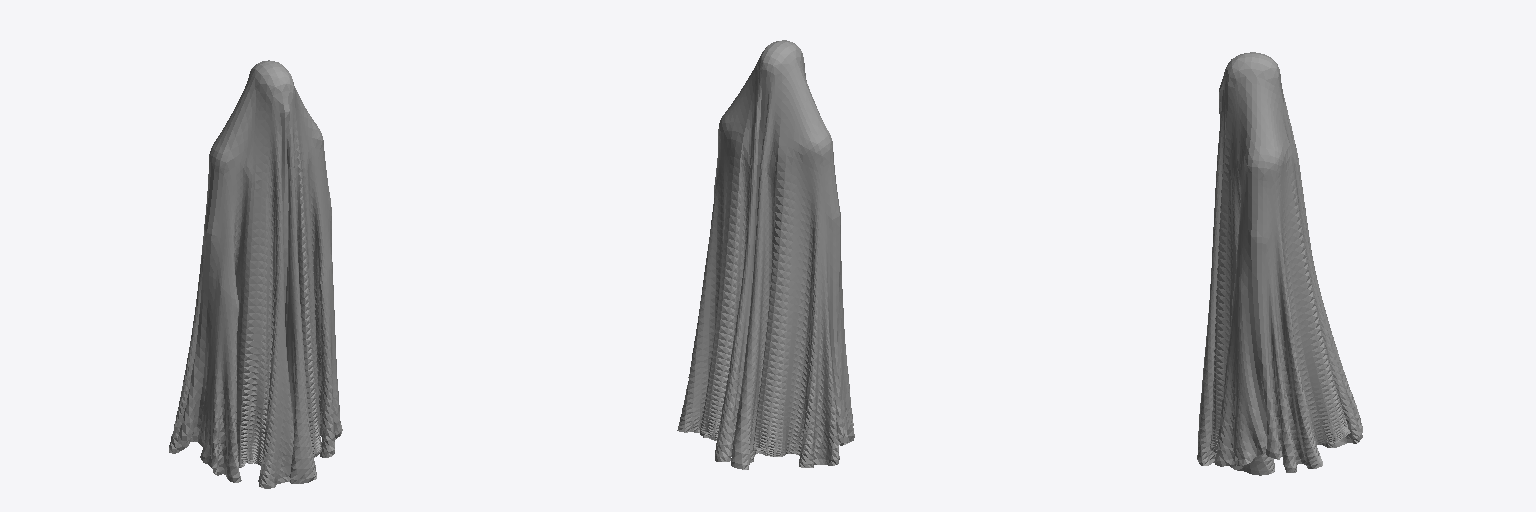
The model's file is ghost.obj.
The picture shows the model from 3 angles: view 1: azimuth 30°, elevation 25°; view 2: azimuth 150°, elevation 25°; view 3: azimuth 270°, elevation 25°; orthographic projection.
Visible parts, largest first — view 1: ghost_Plane; view 2: ghost_Plane; view 3: ghost_Plane.
Boxes of the visible parts, x1=… form: ghost_Plane: x1=169, y1=60, x2=342, y2=488; ghost_Plane: x1=677, y1=40, x2=854, y2=469; ghost_Plane: x1=1197, y1=52, x2=1362, y2=475.
Bounding box in the file's own units: 0.7277 × 1.78 × 0.663.